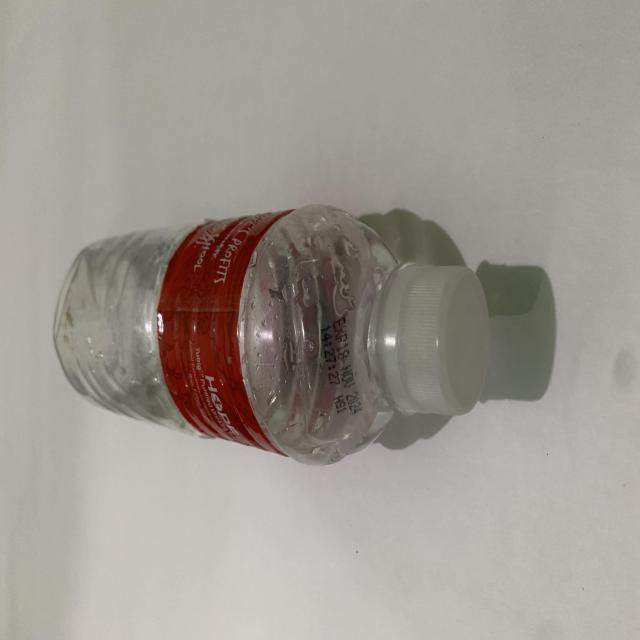bottle: (44, 193, 500, 492)
